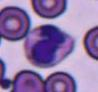N: (24, 24, 72, 67)
